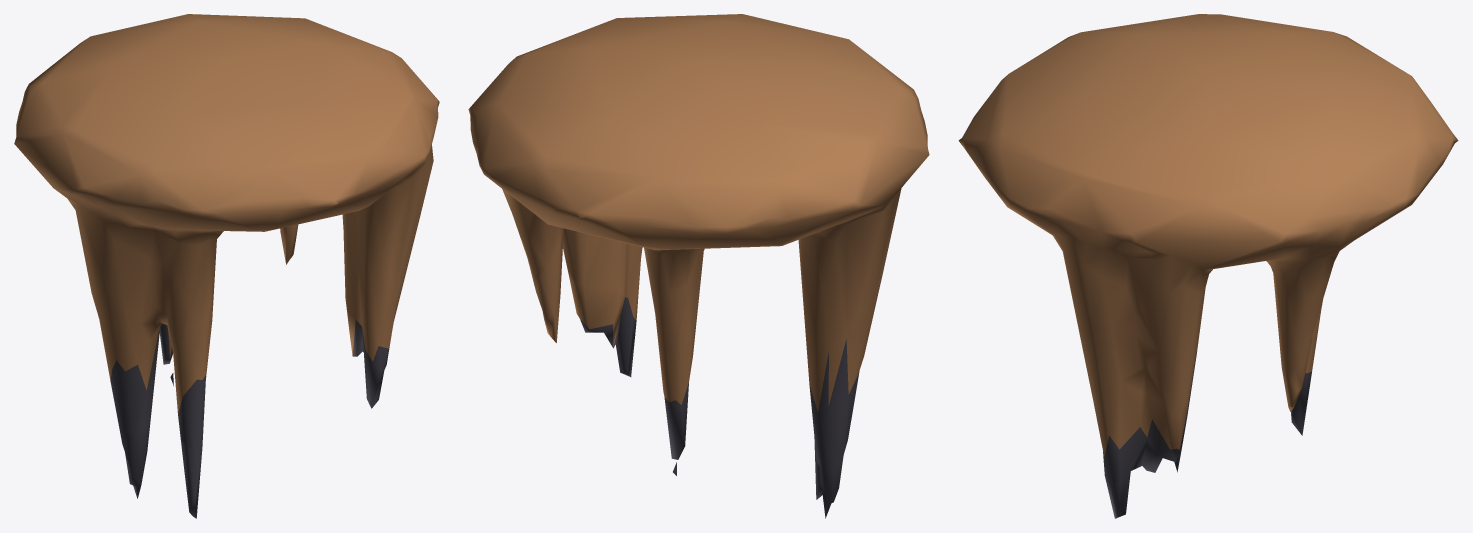
The model's file is shore_stalactite_lod1.glb.
3 views of the same model, side by side, from view 1: azimuth 30°, elevation 25°; view 2: azimuth 150°, elevation 25°; view 3: azimuth 270°, elevation 25° (orthographic). The views are drawn at different scales.
Parts seen in each view (by area): view 1: shore_stalactite.001; view 2: shore_stalactite.001; view 3: shore_stalactite.001.
Part boxes in pixels (x1=…): shore_stalactite.001: x1=14, y1=14, x2=439, y2=518; shore_stalactite.001: x1=468, y1=14, x2=929, y2=518; shore_stalactite.001: x1=958, y1=14, x2=1458, y2=518.
Size of the model in its own units: 2.29 by 2.49 by 2.4.
